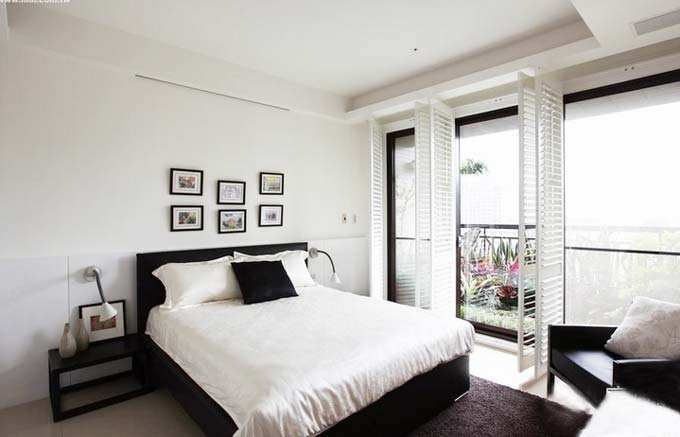床: (148, 284, 482, 432)
枕头: (153, 253, 330, 308), (610, 297, 675, 363)
灯: (79, 264, 122, 329), (407, 45, 420, 57)
